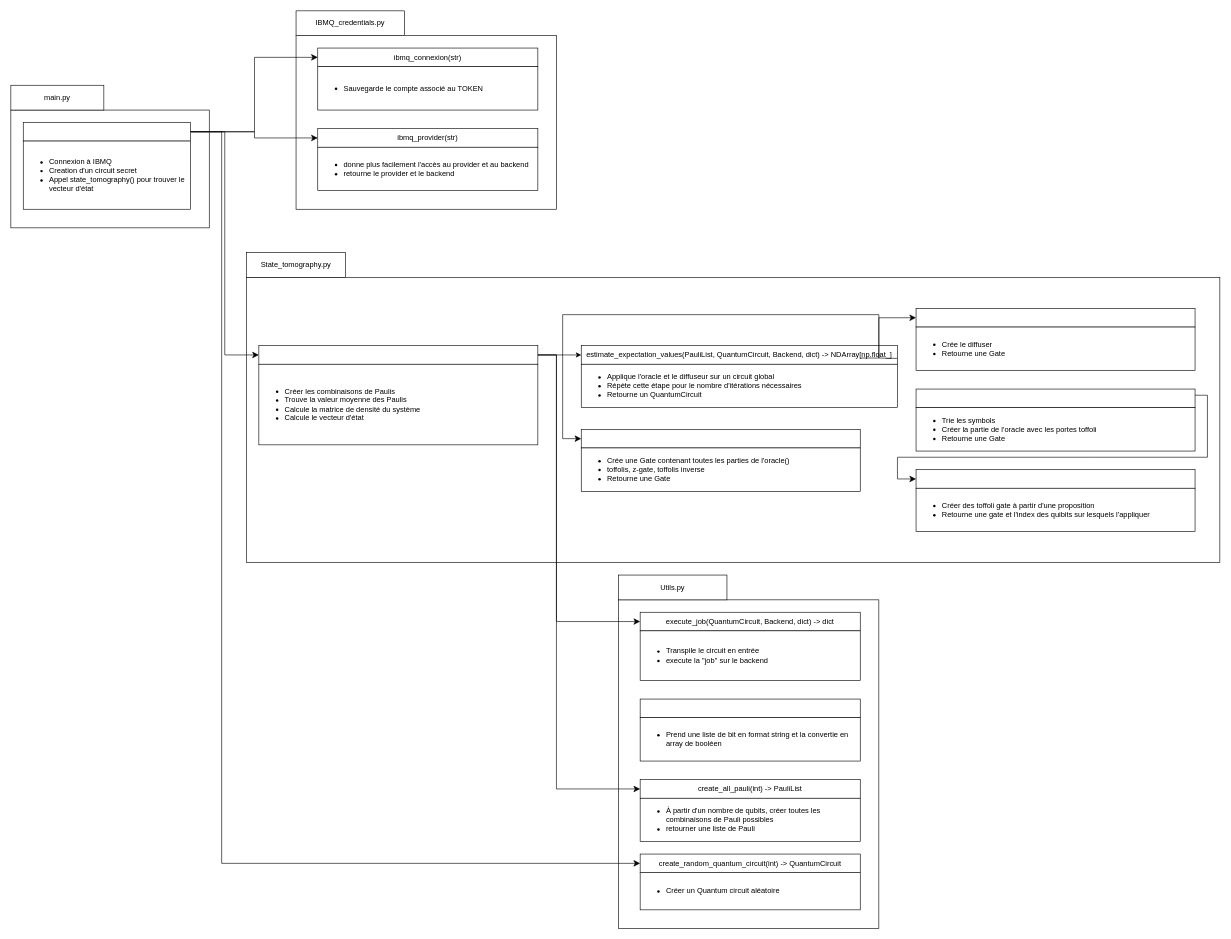
Image size: 1231x939. Some labels were removed from this diagram. Each missing label, with the centre of its shape:
"bitstring_to_bits(str) -> NDArray[np.bool]" goes at pixel 750 708.
"build_diffuser(int) -> Gate" goes at pixel 1055 317.
"cnf_to_oracle(And) -> Gate" goes at pixel 720 438.
"create_oracle_gates(And) -> Gate" goes at pixel 1055 398.
"disjuction_gate(QuantumCircuit, list[symbols], Or, int) -> CCXGate, str" goes at pixel 1055 478.
"main()" goes at pixel 107 131.
"state_tomography(QuantumCircuit, Backend, dict) -> NDArray[np.cmplex_]" goes at pixel 398 354.
